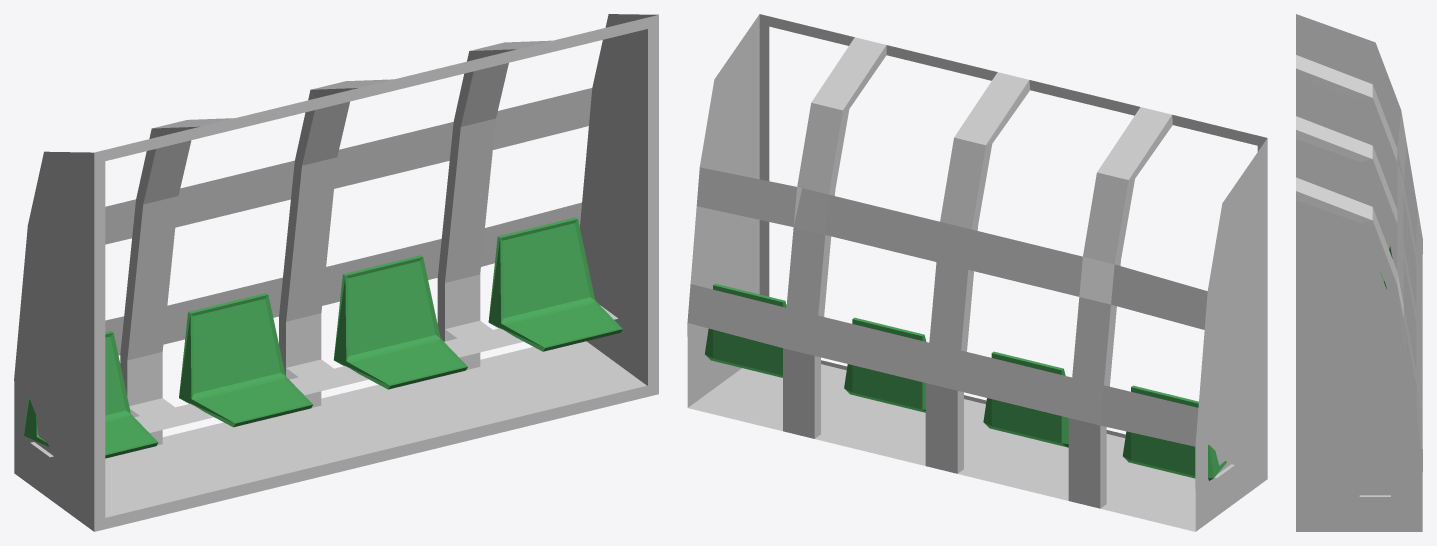
File: Banco de Reservas.glb
3 views of the same model, side by side, from view 1: azimuth 30°, elevation 25°; view 2: azimuth 150°, elevation 25°; view 3: azimuth 270°, elevation 25° (orthographic). The views are drawn at different scales.
Parts seen in each view (by area): view 1: Cube, Cubo; view 2: Cube, Cubo; view 3: Cube.
Part boxes in pixels (x1,y1,x2,y2): Cube: (14,14,658,531); Cubo: (24,217,622,458); Cube: (687,14,1267,531); Cubo: (705,283,1226,480); Cube: (1296,14,1422,531).
Size of the model in its own units: 8.29 by 5.24 by 2.01.
